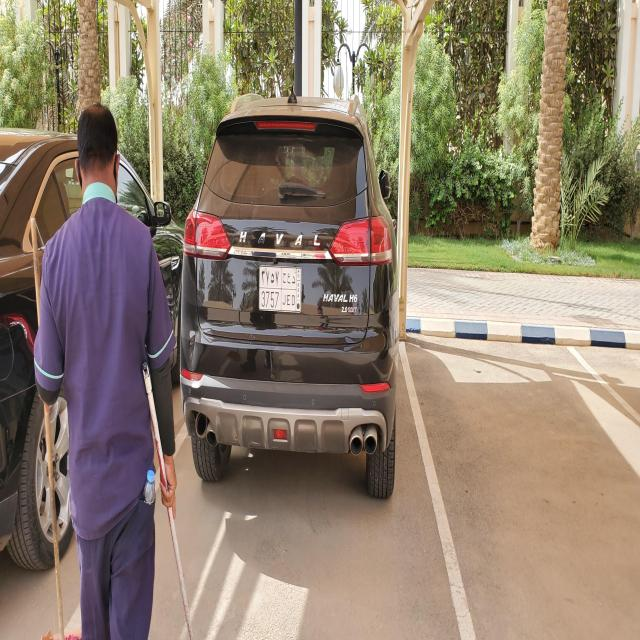license_plate: (258, 264, 302, 314)
